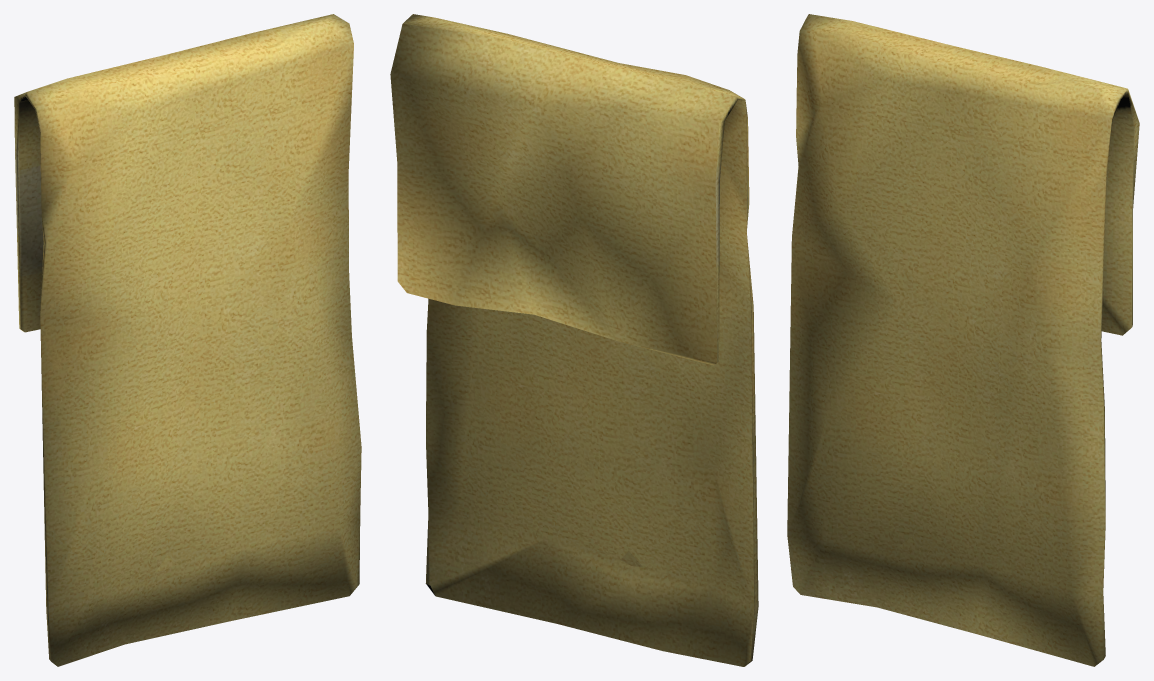
The model's file is racks_towel_large.dae.
3 views of the same model, side by side, from view 1: azimuth 30°, elevation 25°; view 2: azimuth 150°, elevation 25°; view 3: azimuth 330°, elevation 25° (orthographic). The views are drawn at different scales.
Visible parts, largest first — view 1: Mesh; view 2: Mesh; view 3: Mesh.
Part boxes in pixels (x1,y1,x2,y2): Mesh: (14,14,361,666); Mesh: (390,14,758,666); Mesh: (787,14,1139,666).
Size of the model in its own units: 0.534 by 0.9108 by 0.1326.
